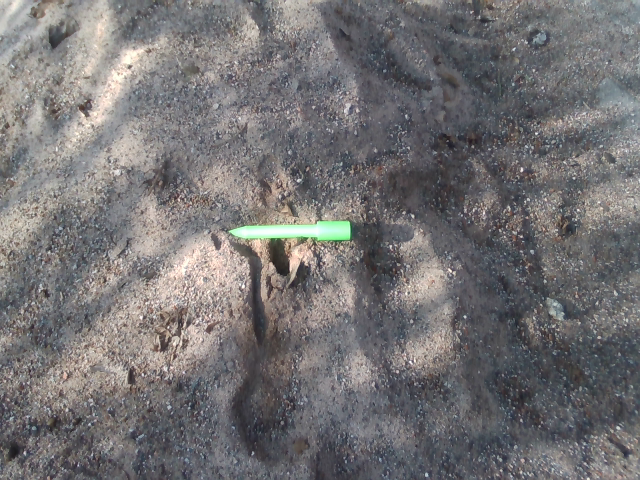Probe: (221, 213, 358, 249)
